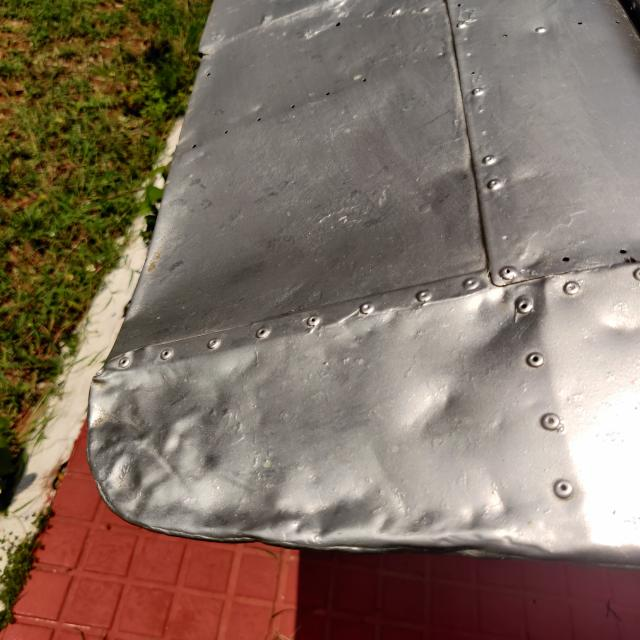dent: (215, 460, 557, 570), (77, 369, 243, 518), (456, 275, 550, 378), (386, 365, 480, 456), (582, 290, 640, 363)
